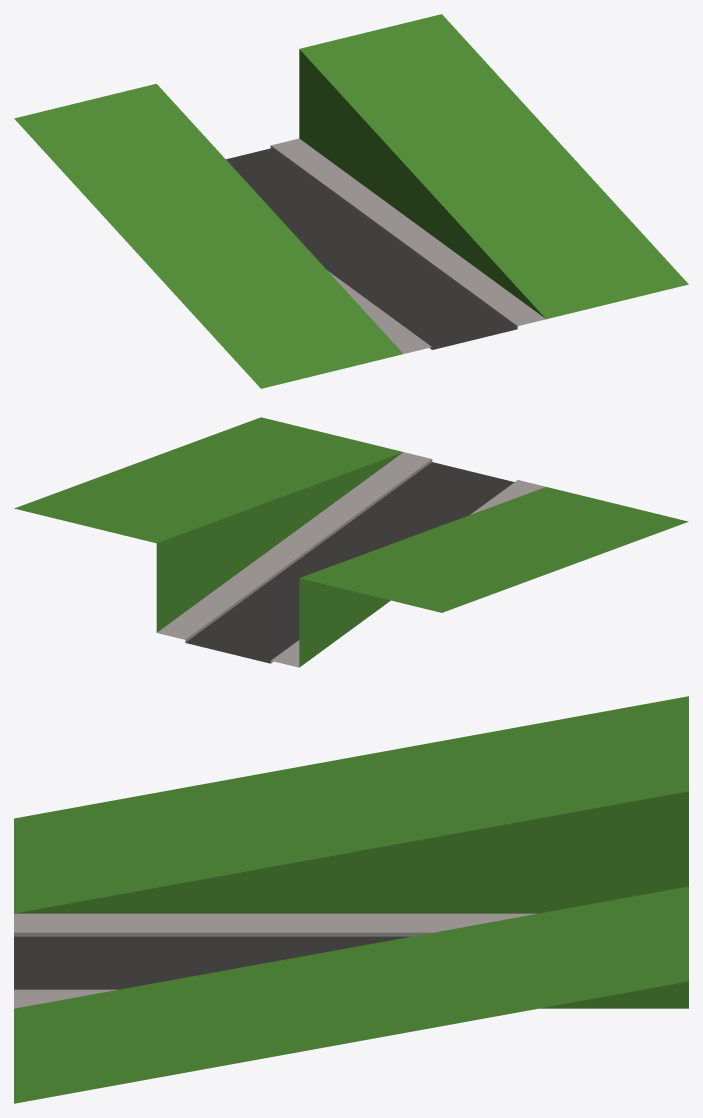
The model's file is tiles-nb_tile-road-tunnel-entrance-nb.fbx.
The picture shows the model from 3 angles, top to bottom: view 1: azimuth 30°, elevation 25°; view 2: azimuth 150°, elevation 25°; view 3: azimuth 270°, elevation 25°; orthographic projection. The views are drawn at different scales.
Visible parts, largest first — view 1: tiles_nb_tile_road_tunnel_entrance_nb; view 2: tiles_nb_tile_road_tunnel_entrance_nb; view 3: tiles_nb_tile_road_tunnel_entrance_nb.
Part boxes in pixels (left/top/right/bottom): tiles_nb_tile_road_tunnel_entrance_nb: left=14, top=14, right=688, bottom=388; tiles_nb_tile_road_tunnel_entrance_nb: left=14, top=417, right=688, bottom=667; tiles_nb_tile_road_tunnel_entrance_nb: left=14, top=696, right=688, bottom=1103.
Bounding box in the file's own units: 200 × 41.33 × 200.
